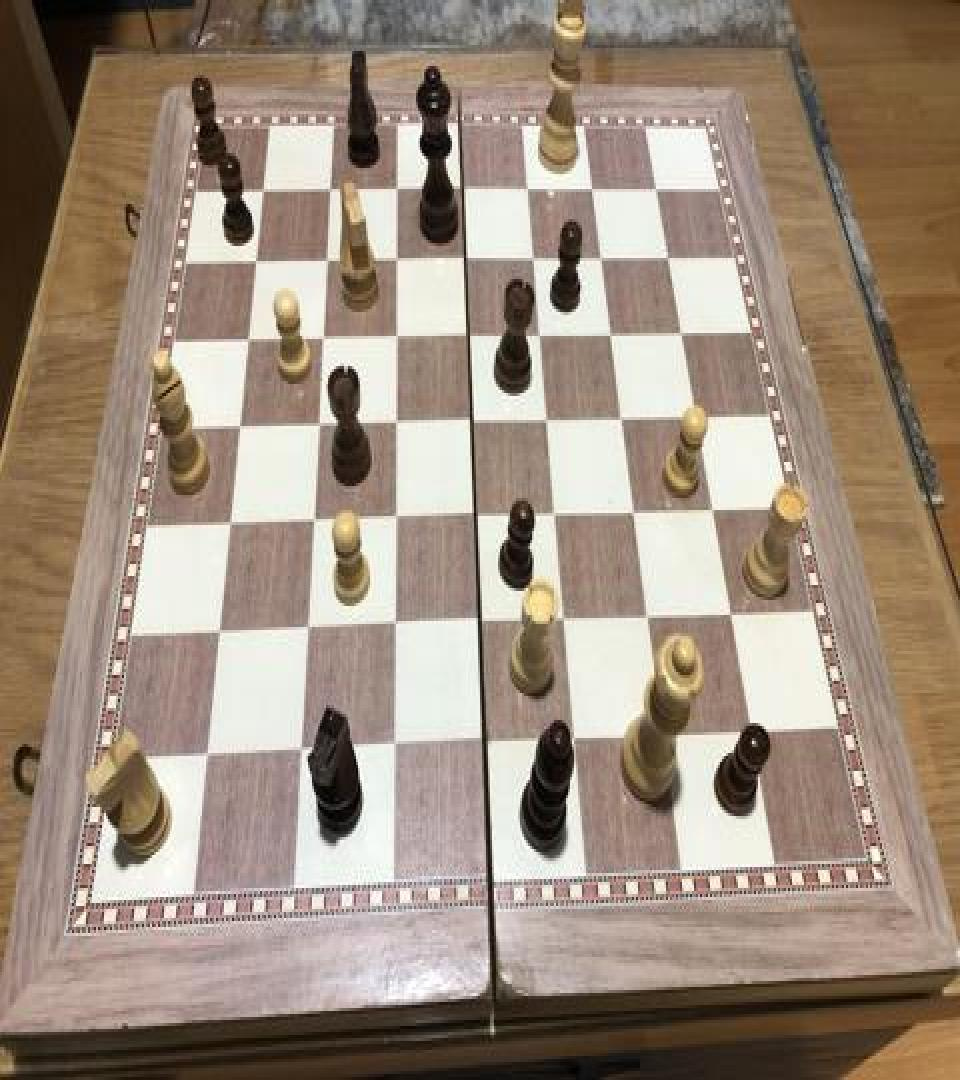xcorner: (553, 601, 577, 638), (194, 739, 218, 776), (644, 171, 668, 207), (581, 171, 605, 207), (252, 174, 276, 210), (656, 240, 680, 276), (590, 240, 614, 276), (522, 242, 546, 278), (454, 242, 478, 278), (385, 243, 409, 279), (315, 243, 339, 279), (245, 244, 269, 280), (670, 315, 694, 351), (600, 316, 624, 352), (529, 316, 553, 352), (457, 318, 481, 354), (385, 320, 409, 356), (311, 321, 335, 357), (237, 322, 261, 358), (684, 398, 708, 434), (611, 399, 635, 435), (536, 402, 560, 438), (460, 404, 484, 440), (384, 405, 408, 441), (306, 408, 330, 444), (228, 410, 252, 446), (701, 490, 725, 526), (623, 494, 647, 530), (544, 495, 568, 531), (464, 498, 488, 534), (383, 501, 407, 537), (301, 504, 325, 540), (218, 507, 242, 543), (719, 594, 743, 630), (637, 597, 661, 633), (468, 604, 492, 640), (383, 608, 407, 644), (295, 612, 319, 648), (207, 615, 231, 651), (739, 711, 763, 747), (652, 716, 676, 752), (563, 720, 587, 756), (473, 724, 497, 760), (382, 729, 406, 765), (289, 735, 313, 771), (516, 173, 540, 208), (451, 173, 475, 208), (386, 173, 410, 208), (319, 173, 343, 208)
